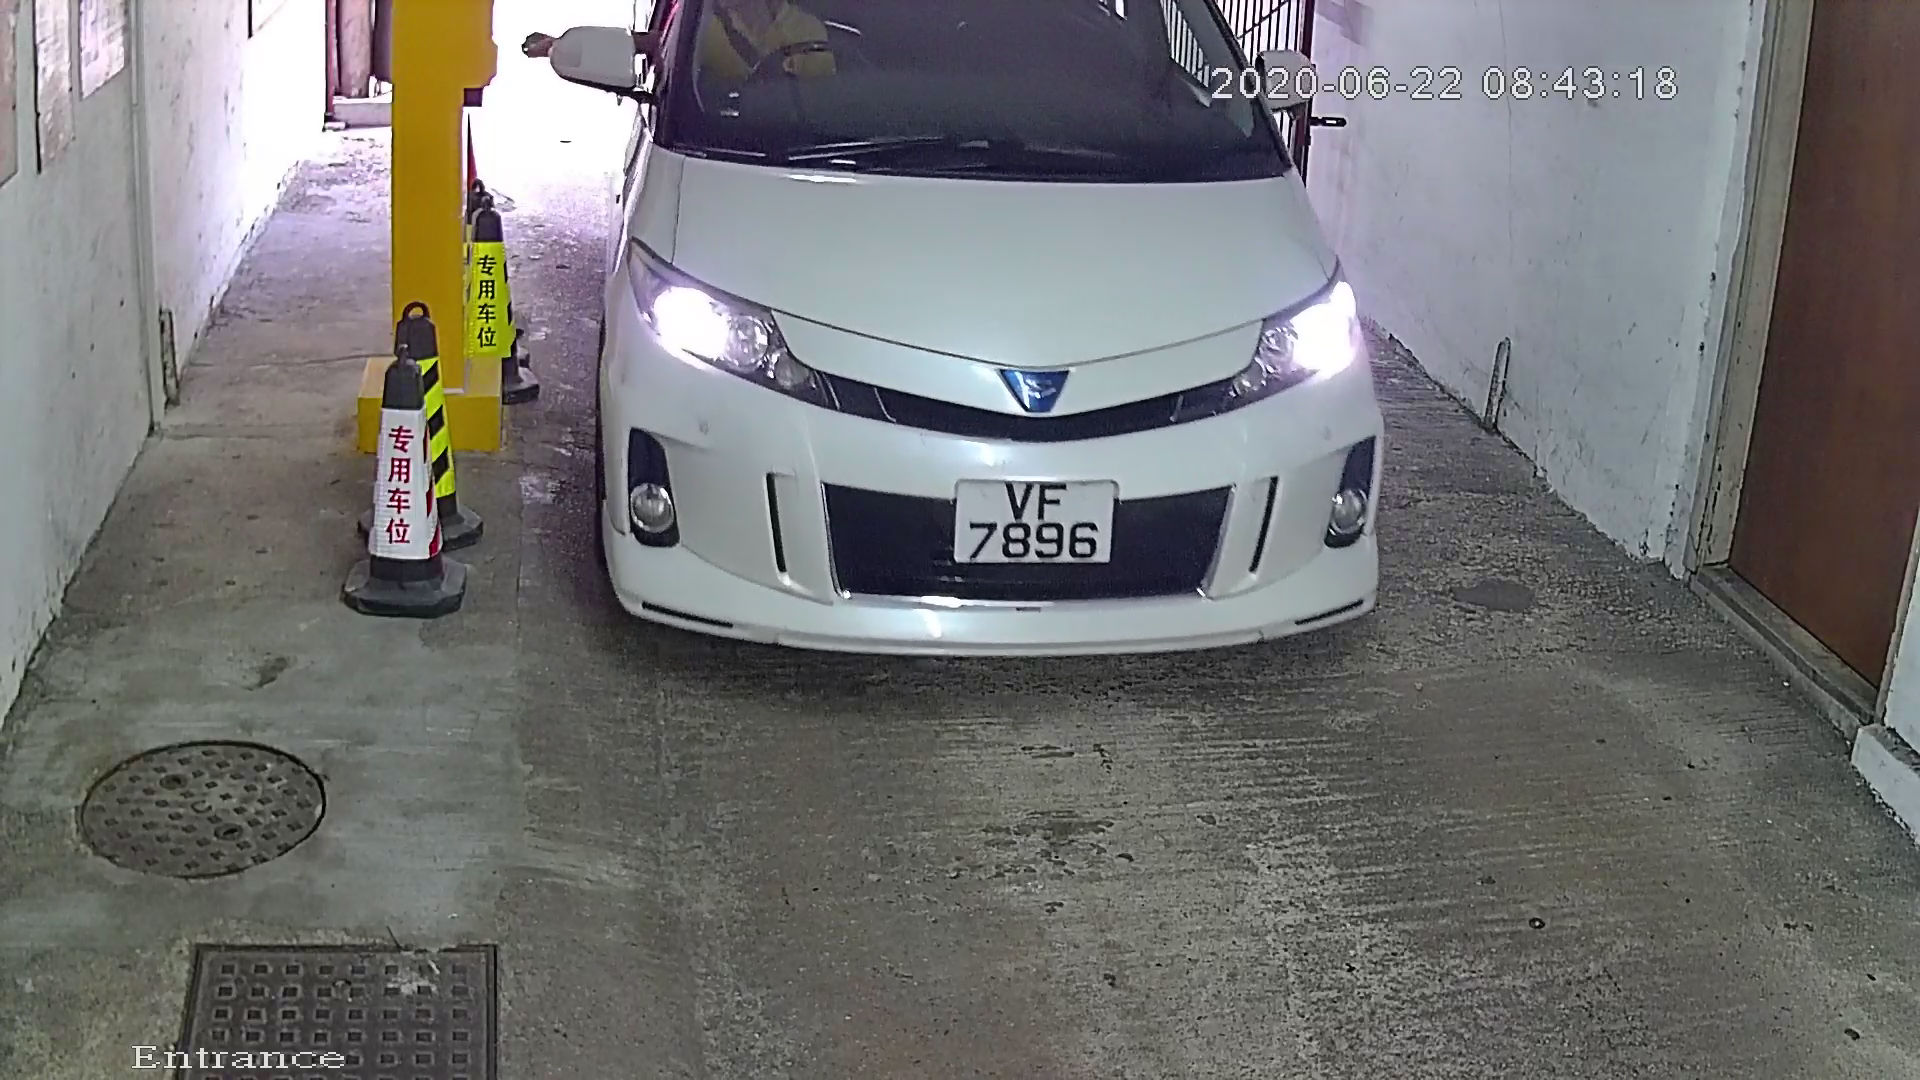privatecar: (531, 3, 1466, 732)
